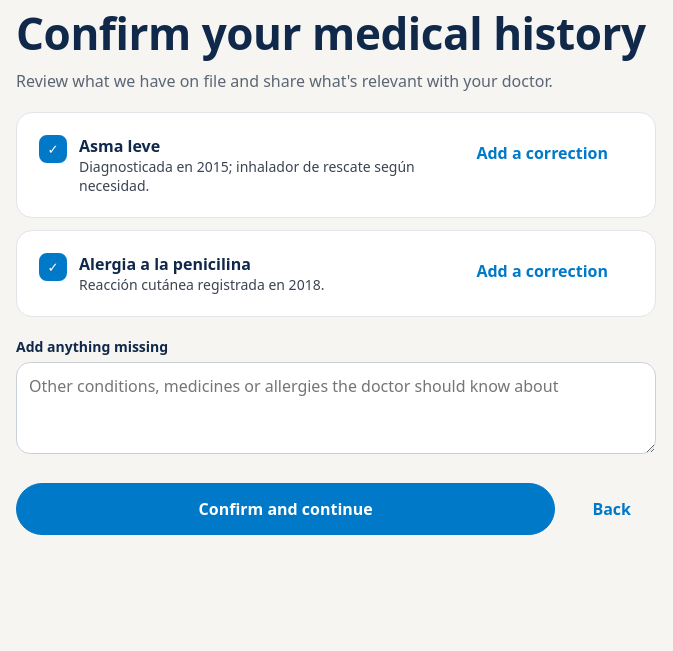
Test case: P-05 Confirm medical history › saves an inline correction and displays it
The width and height of the screenshot is (673, 651).
expect the text "Asma leve" is shown: met, box [79,135,160,157]
Click the button "Add a correction" in the row of "Asma leve" at (542, 153), box [452,135,633,171]
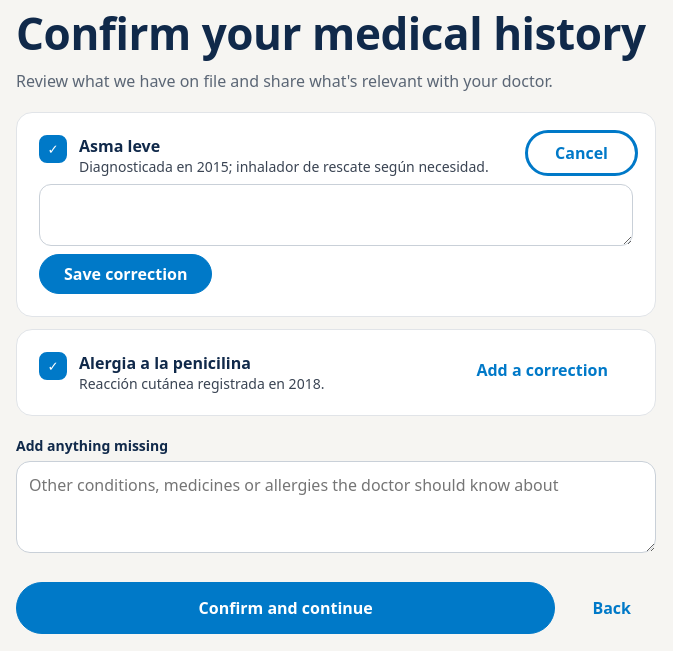
Type "DiagnÃ³stico actualizado en 2022" into the text box named "correction for Asma leve" at (336, 215), box [39,184,633,246]
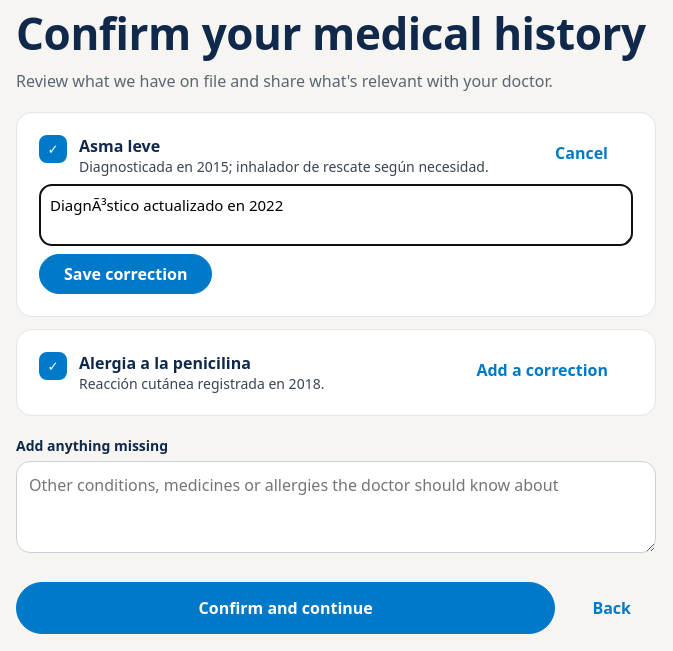
Click the button "Save correction" at (126, 274), box [39,254,212,294]
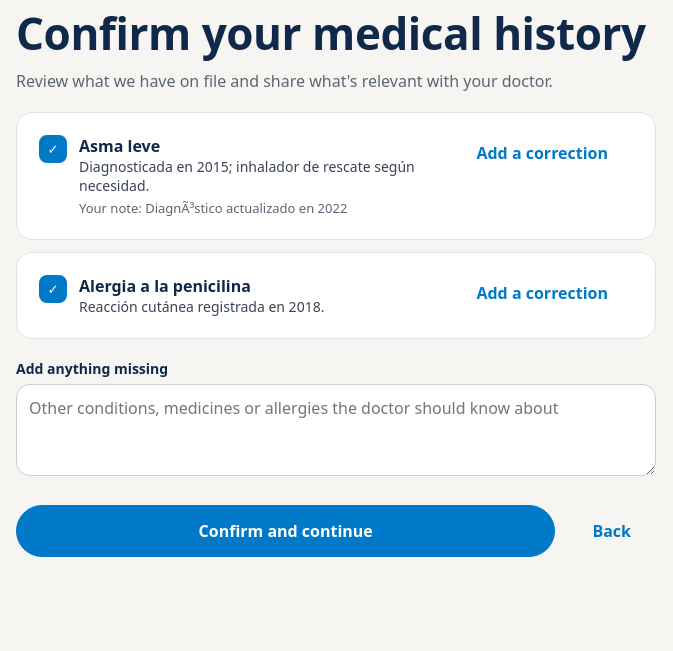
expect the text with test id "correction-mh-1" shows "2022": met, box [145,199,347,217]
